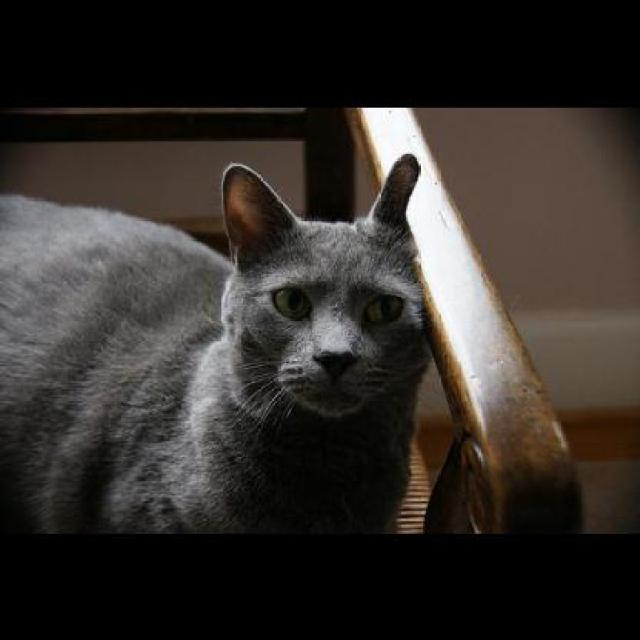unauthorized: (0, 152, 431, 536)
